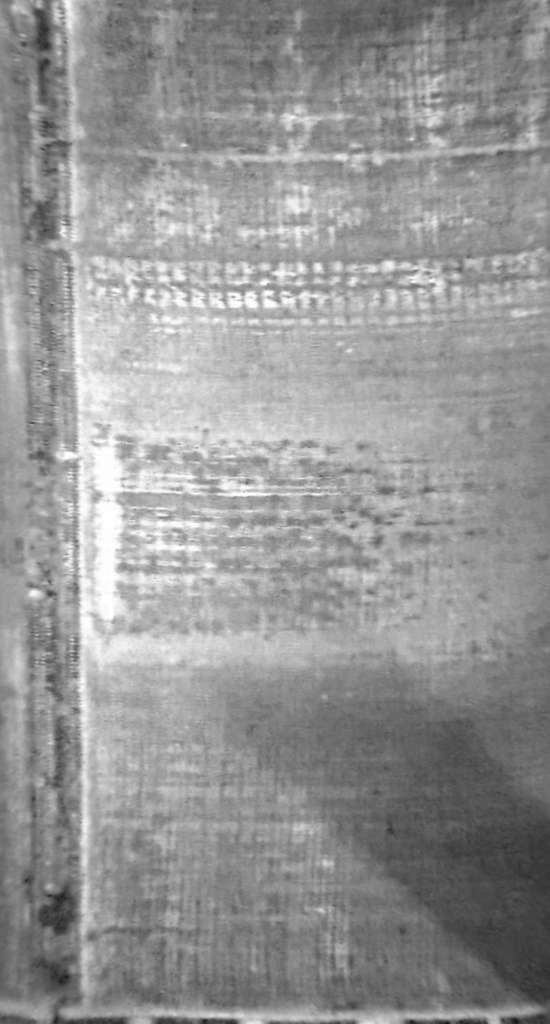splice: (11, 3, 84, 1024)
